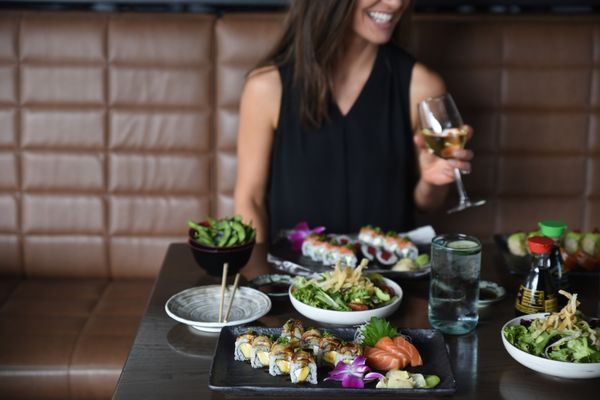curry: (357, 316, 400, 347)
pizza: (428, 232, 483, 335)
salad: (220, 261, 240, 323), (218, 261, 234, 324)
sushi: (500, 289, 600, 380), (288, 263, 403, 327), (165, 283, 272, 335)
